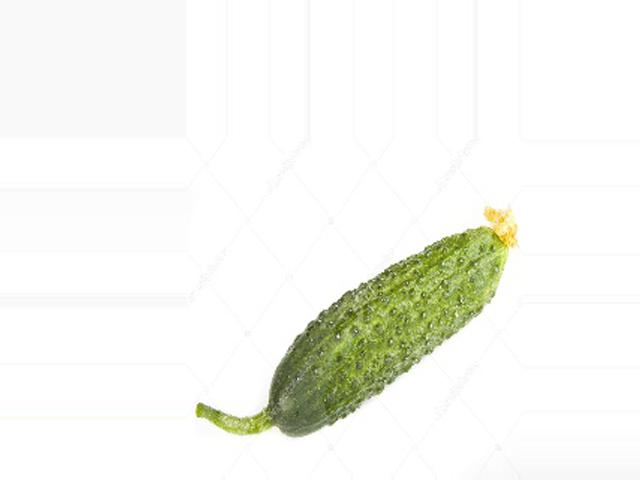cucumber: (198, 203, 519, 437)
